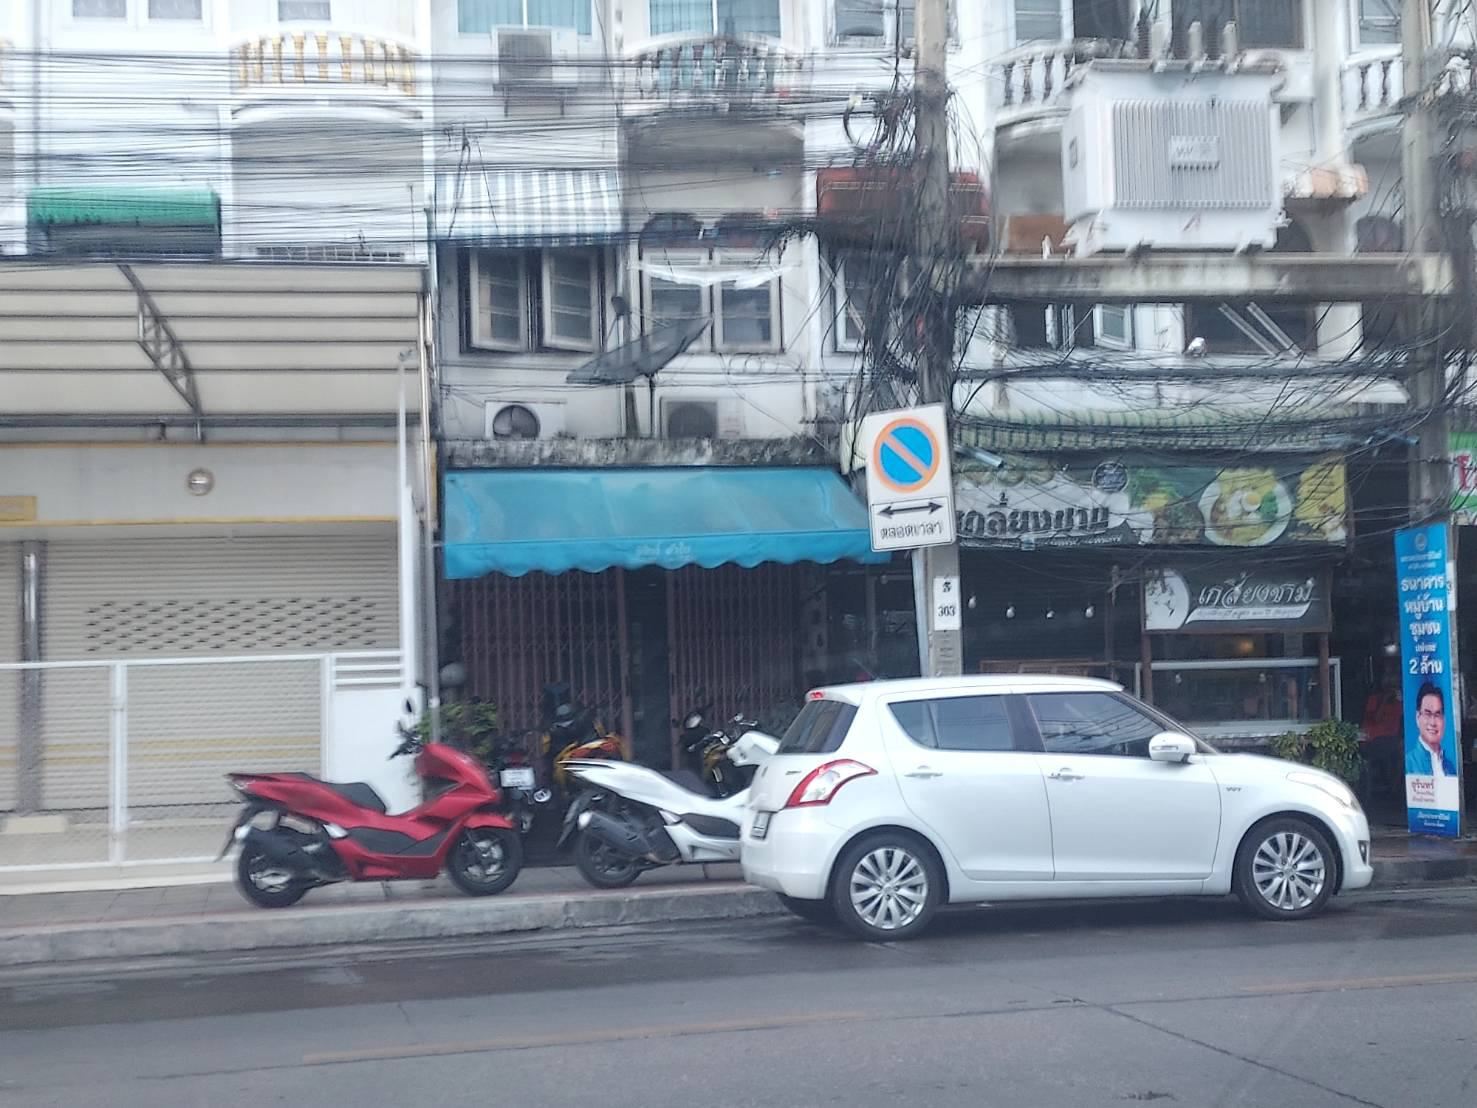Banner: (1390, 516, 1468, 845)
